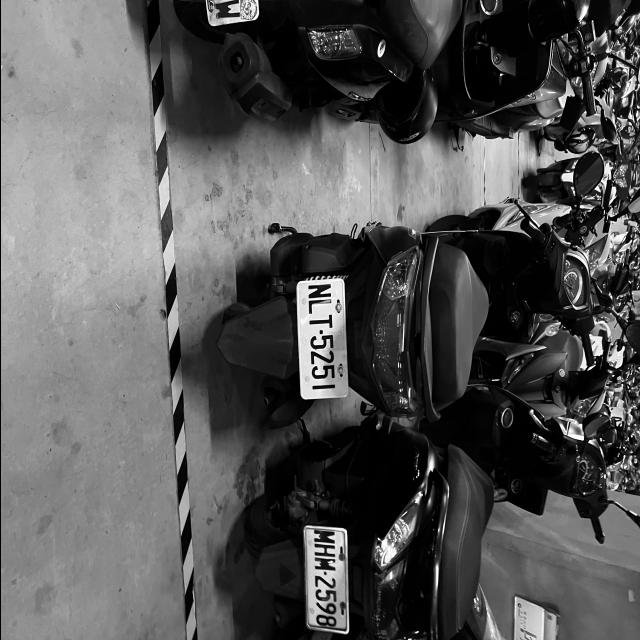-: (317, 328, 324, 334), (322, 571, 327, 575)
1: (310, 384, 336, 390)
2: (310, 350, 333, 365), (313, 576, 337, 588)
5: (309, 334, 333, 350), (310, 364, 334, 380), (314, 590, 336, 602)
8: (316, 614, 336, 628)
9: (314, 603, 336, 615)
H: (313, 544, 335, 558)
L: (307, 298, 331, 314)
M: (312, 530, 334, 542), (313, 558, 335, 570)
N: (307, 283, 331, 299)
T: (308, 314, 332, 328)
W: (212, 0, 240, 21)
plate: (298, 278, 342, 398), (304, 530, 346, 632)
